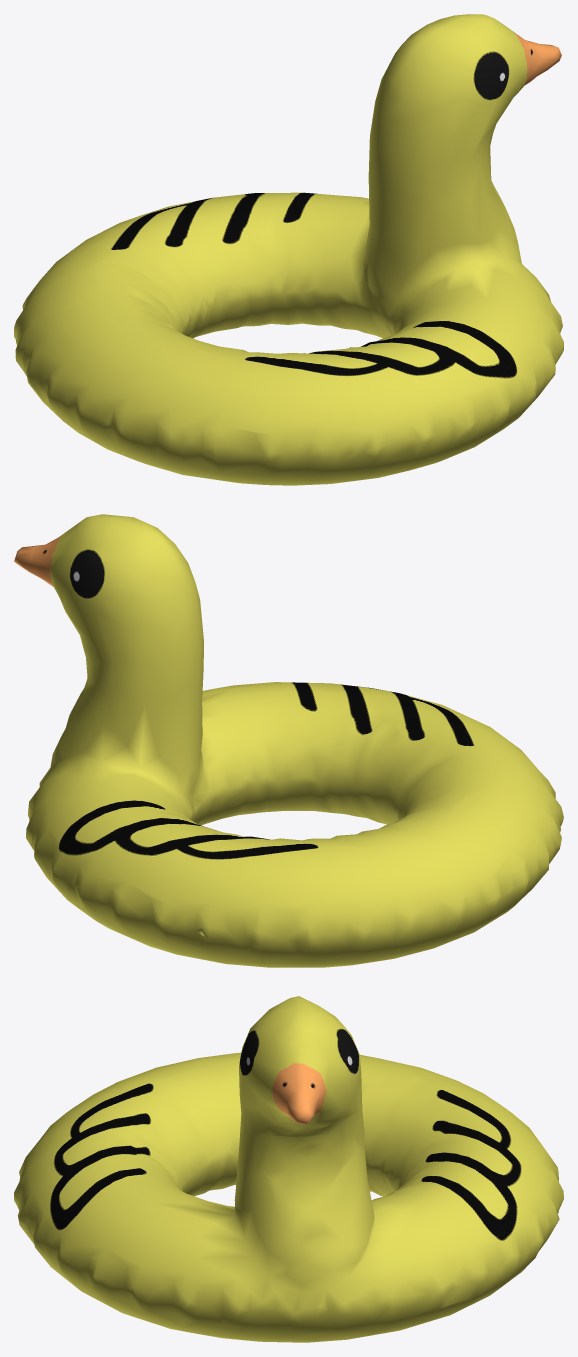
File: duckfloatie.glb
3 renders of one model, top to bottom at view 1: azimuth 30°, elevation 25°; view 2: azimuth 150°, elevation 25°; view 3: azimuth 270°, elevation 25°, orthographic. The views are drawn at different scales.
Visible parts, largest first — view 1: BezierCurve; view 2: BezierCurve; view 3: BezierCurve.
Boxes of the visible parts, bbox=[...] form: BezierCurve: bbox=[14, 14, 563, 485]; BezierCurve: bbox=[14, 514, 563, 967]; BezierCurve: bbox=[14, 996, 563, 1342].
Size of the model in its own units: 2.1 by 1.29 by 1.94.
1 material, 1 textured.
